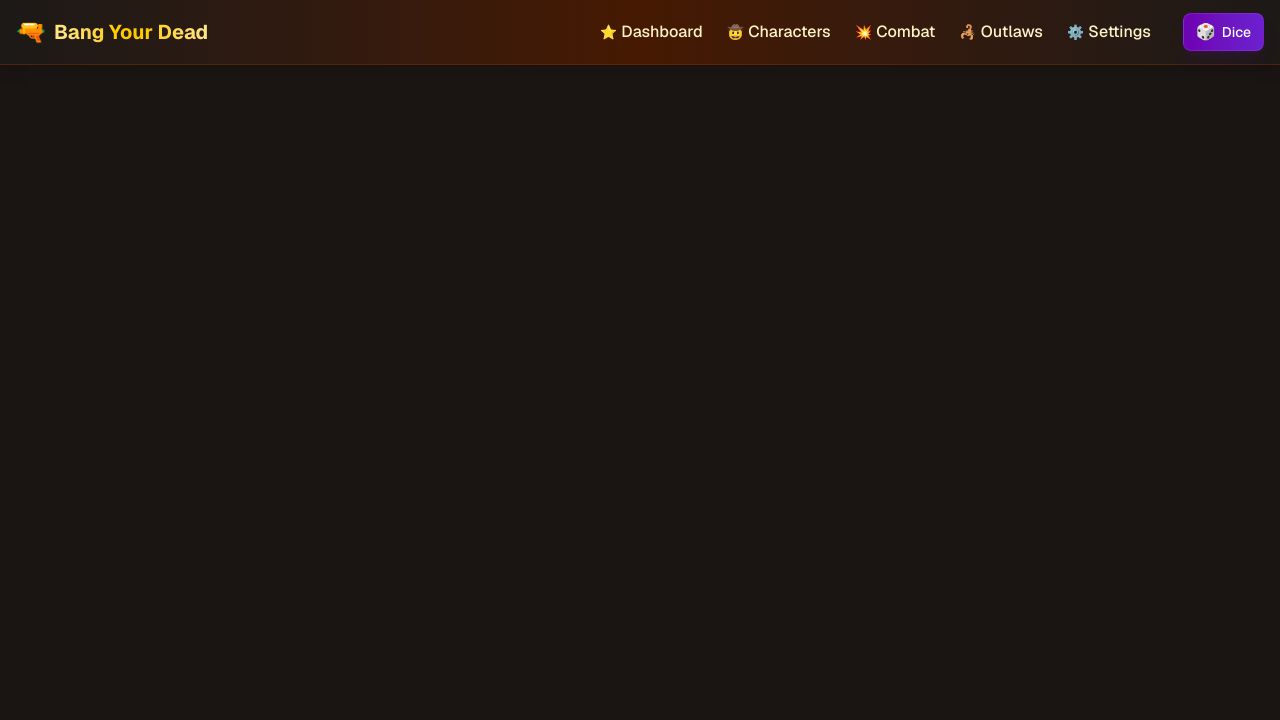
Navigation › dice roller modal › should open dice modal when dice button is clicked
This screenshot has width=1280, height=720.
Click the button with aria-label "open dice roller": x=1223, y=32 [1183,13,1264,51]
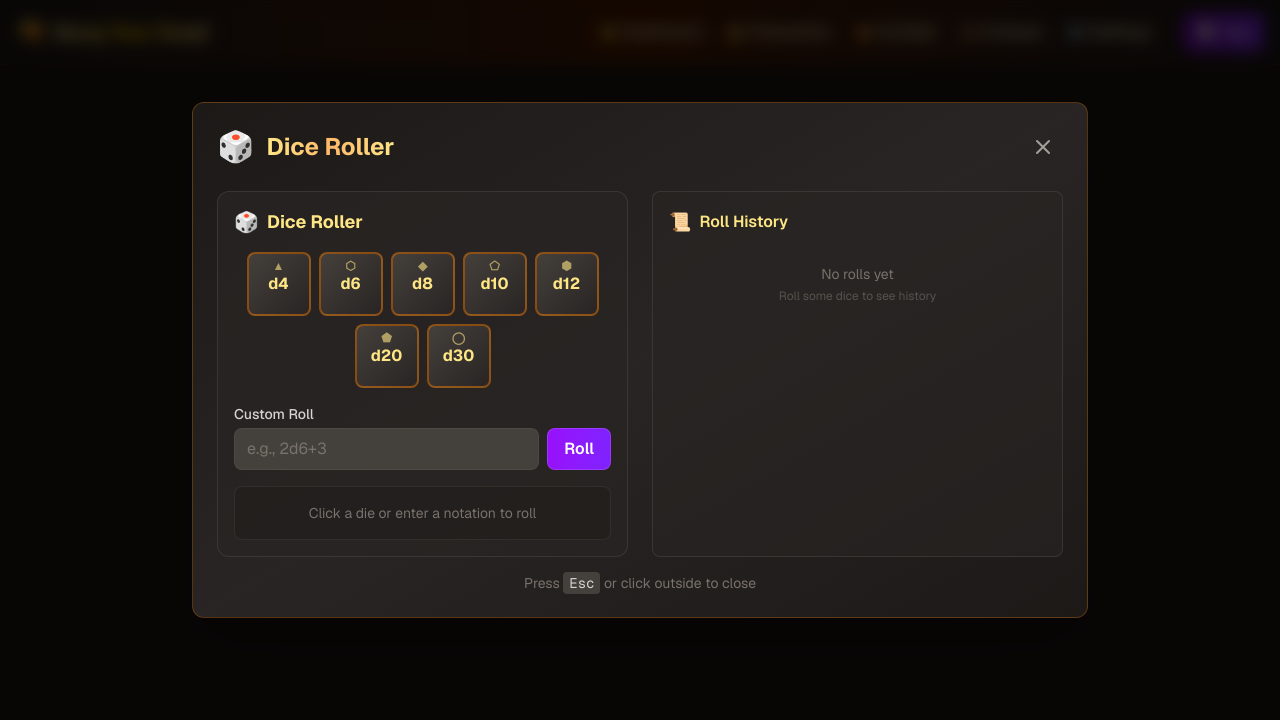
Now the dialog is shown
